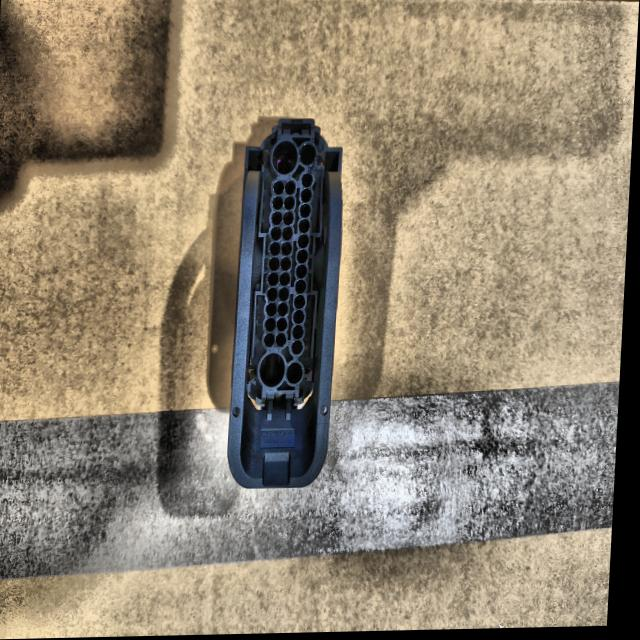P38: (232, 120, 343, 489)
